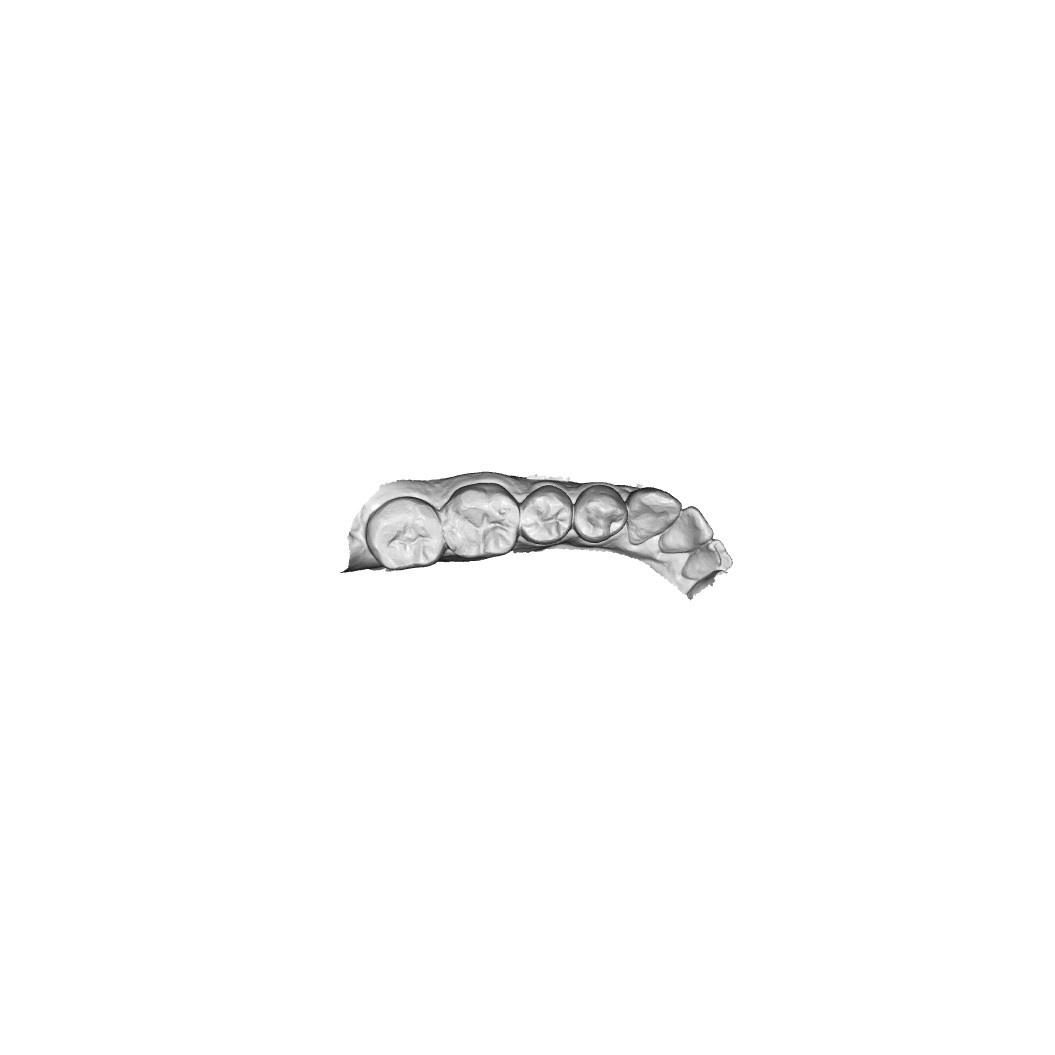canine: (620, 482, 683, 551)
incisor: (657, 503, 716, 556), (679, 537, 733, 581)
molar: (441, 479, 527, 562), (363, 494, 442, 573)
premolar: (571, 482, 631, 546), (521, 484, 572, 547)
